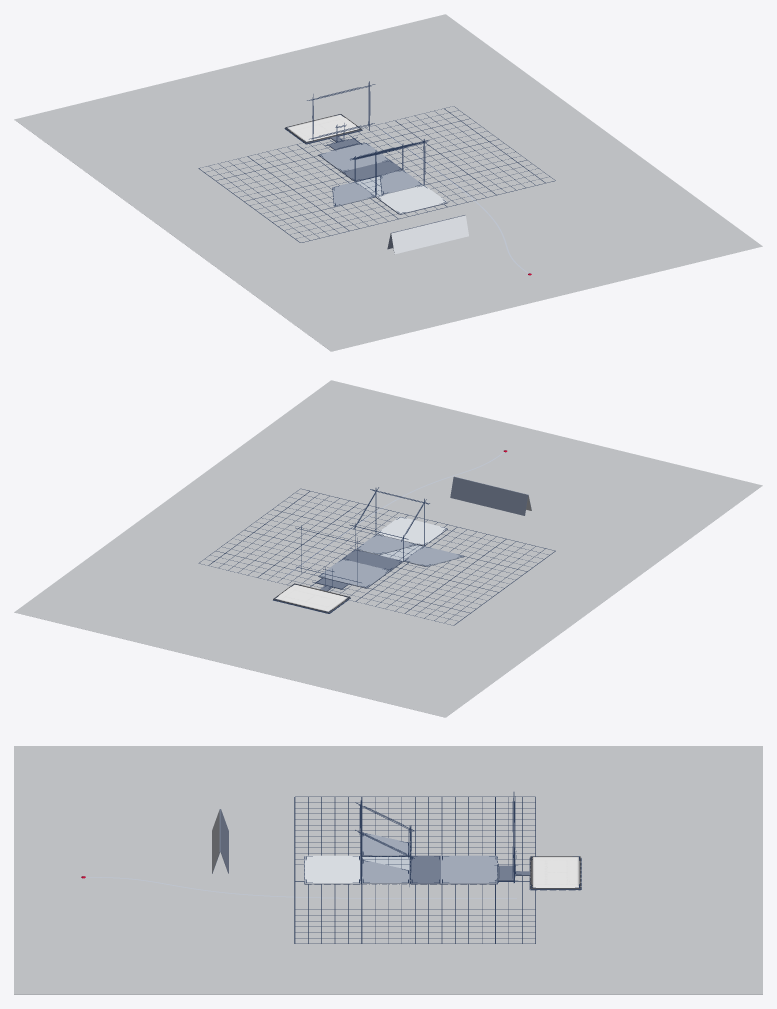
The model's file is modernisierung-hochkant.glb.
3 renders of one model, top to bottom at view 1: azimuth 30°, elevation 25°; view 2: azimuth 150°, elevation 25°; view 3: azimuth 270°, elevation 25°, orthographic. The views are drawn at different scales.
Parts seen in each view (by area): view 1: Bogen, Bau_Welt, druck:titel, Flach_Schirm, druck:lesestelle, CRT_Deckel, CRT_Links, CRT_Rechts, CRT_Rueck; view 2: Bogen, Bau_Welt, Titel_Stuetze, Flach_Schirm, CRT_Deckel, druck:lesestelle, CRT_Links, CRT_Rechts, CRT_Rueck; view 3: Bogen, Bau_Welt, Flach_Schirm, CRT_Deckel, druck:lesestelle, CRT_Rechts, CRT_Links, CRT_Rueck, Schiene.
Boxes of the visible parts, x1=… form: Bogen: x1=14, y1=14, x2=762, y2=351; Bau_Welt: x1=198, y1=81, x2=555, y2=242; druck:titel: x1=391, y1=215, x2=468, y2=254; Flach_Schirm: x1=285, y1=114, x2=362, y2=143; druck:lesestelle: x1=376, y1=185, x2=447, y2=213; CRT_Deckel: x1=318, y1=142, x2=389, y2=171; CRT_Links: x1=332, y1=181, x2=375, y2=206; CRT_Rechts: x1=380, y1=170, x2=422, y2=194; CRT_Rueck: x1=342, y1=160, x2=402, y2=181; Bogen: x1=14, y1=380, x2=762, y2=717; Bau_Welt: x1=198, y1=487, x2=555, y2=625; Titel_Stuetze: x1=450, y1=477, x2=528, y2=515; Flach_Schirm: x1=273, y1=583, x2=350, y2=613; CRT_Deckel: x1=318, y1=559, x2=389, y2=588; druck:lesestelle: x1=376, y1=516, x2=447, y2=545; CRT_Links: x1=404, y1=546, x2=464, y2=566; CRT_Rechts: x1=356, y1=534, x2=416, y2=554; CRT_Rueck: x1=342, y1=549, x2=403, y2=570; Bogen: x1=14, y1=746, x2=762, y2=994; Bau_Welt: x1=294, y1=792, x2=581, y2=943; Flach_Schirm: x1=530, y1=856, x2=580, y2=889; CRT_Deckel: x1=441, y1=855, x2=497, y2=884; druck:lesestelle: x1=304, y1=855, x2=360, y2=883; CRT_Rechts: x1=362, y1=860, x2=409, y2=883; CRT_Links: x1=362, y1=832, x2=409, y2=856; CRT_Rueck: x1=410, y1=855, x2=440, y2=884; Schiene: x1=85, y1=877, x2=516, y2=898.
Size of what is drawn, in the model's own units: 22 by 2.97 by 28.
16 materials, 5 textured.
